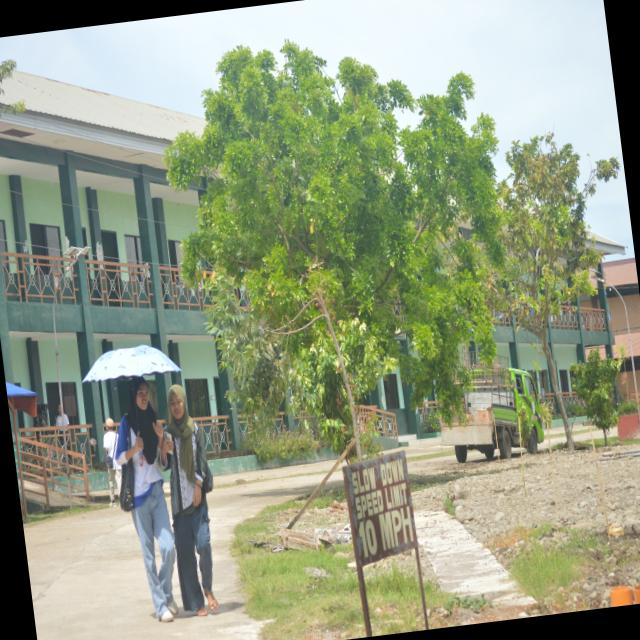person: (117, 377, 178, 622), (162, 385, 218, 616), (103, 418, 121, 506)
